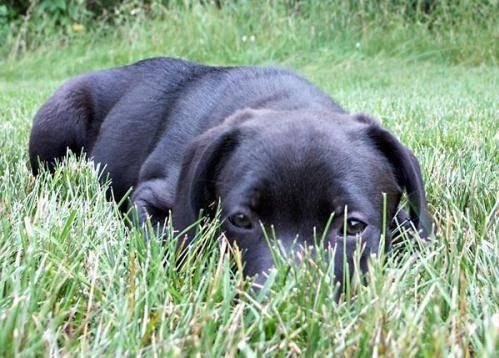dog: (29, 57, 431, 281)
